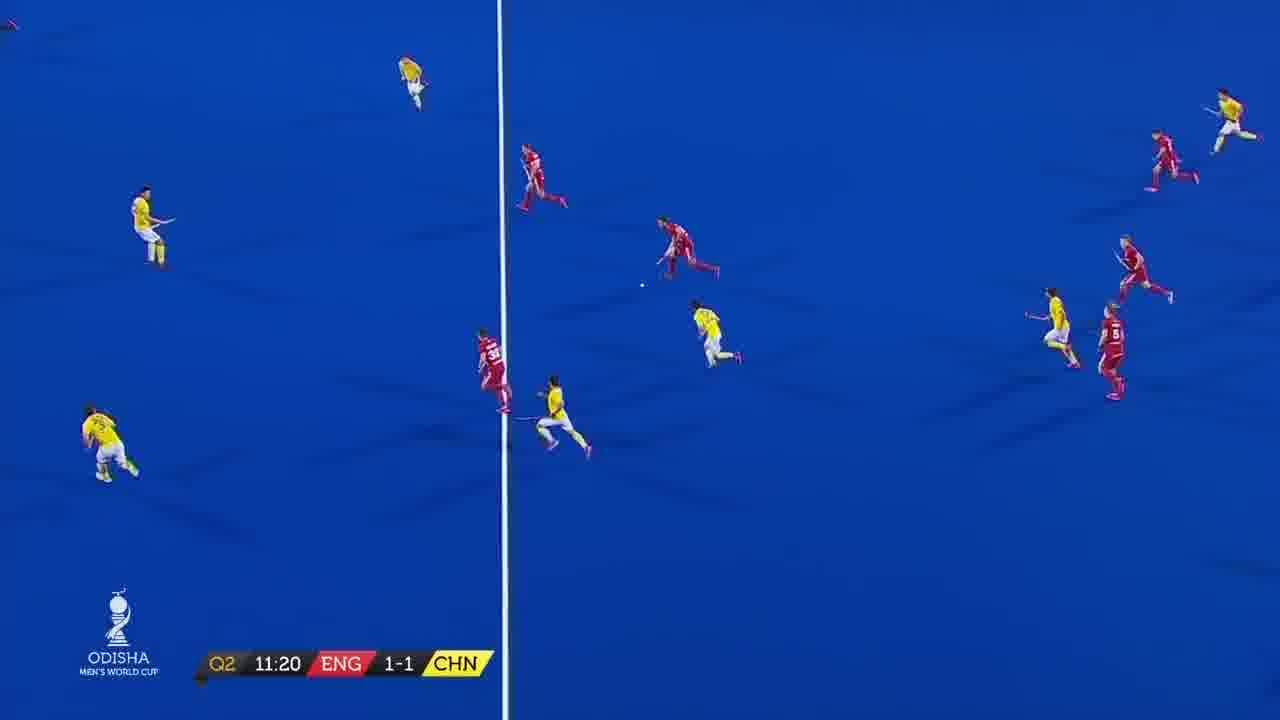ball: (635, 278, 648, 290)
